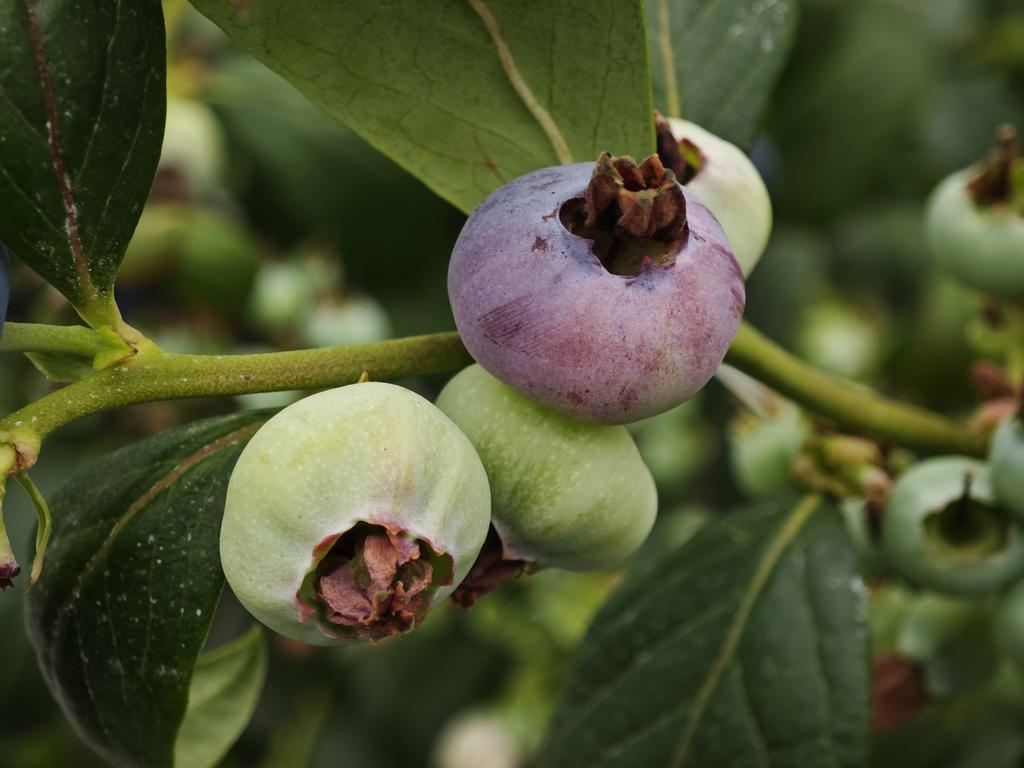Semi-RipeBlueBerry: (443, 152, 751, 427)
UnripeBlueBerry: (218, 377, 495, 652)
